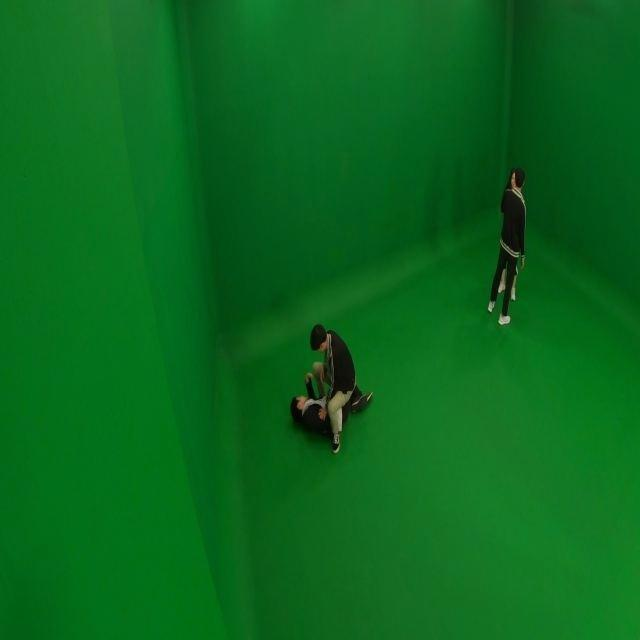fight: (287, 321, 377, 454)
non-fight: (487, 167, 526, 327)
